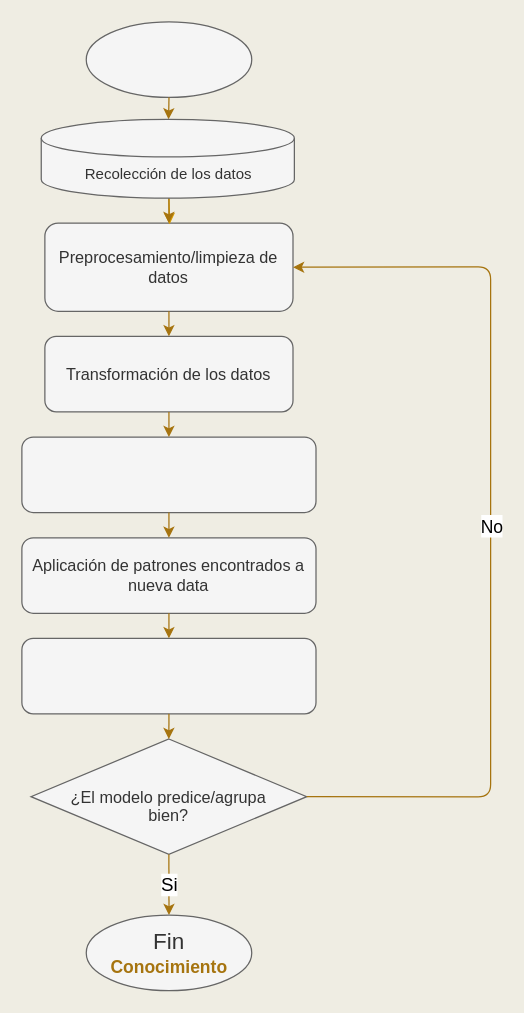
This 524x1013 diagram has some shape labels left out. Here are the shapes that lost their labels. From the top down, the centre of each, then its label:
At (168,59): "Inicio Definir un objetivo".
At (168,474): "Implementación del algoritmo DATA MINING".
At (168,675): "Interpretación/Evaluación".
